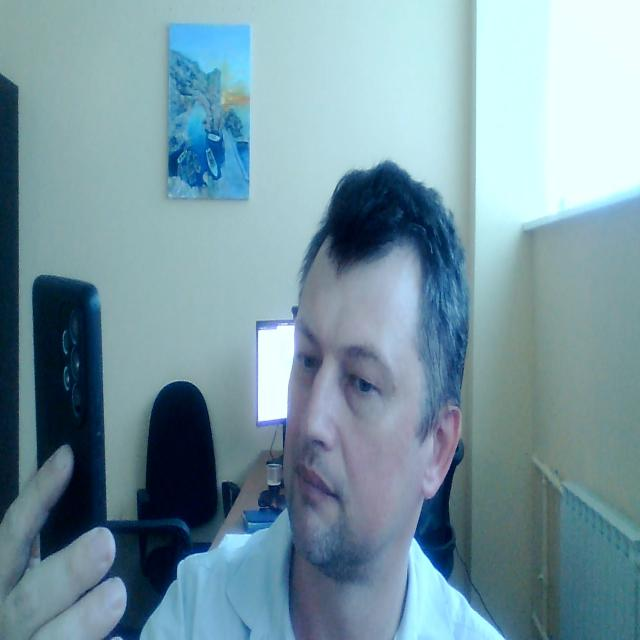phone: (31, 270, 107, 564)
